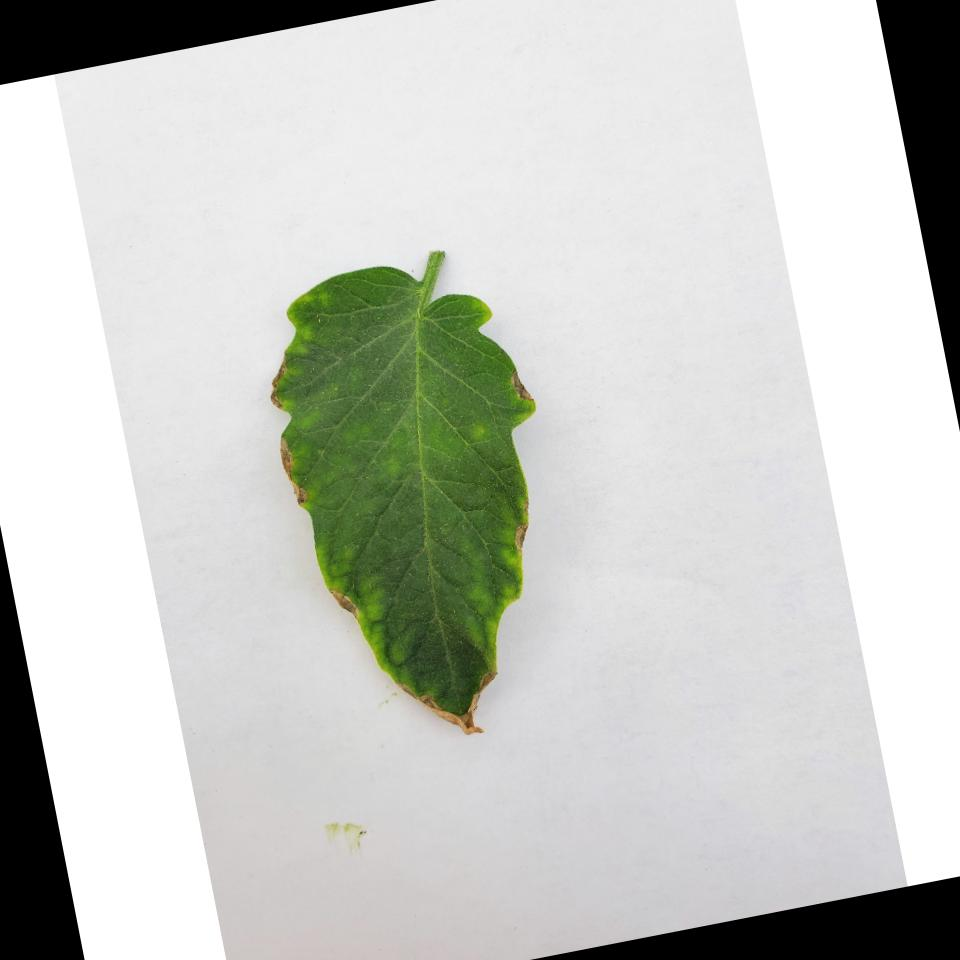tomato_bacterial_blight: (248, 224, 576, 769)
